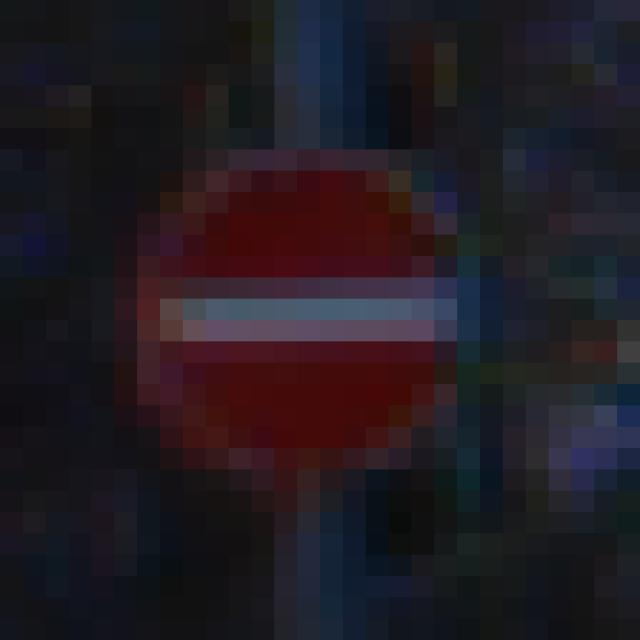No Entry: (115, 129, 527, 534)
